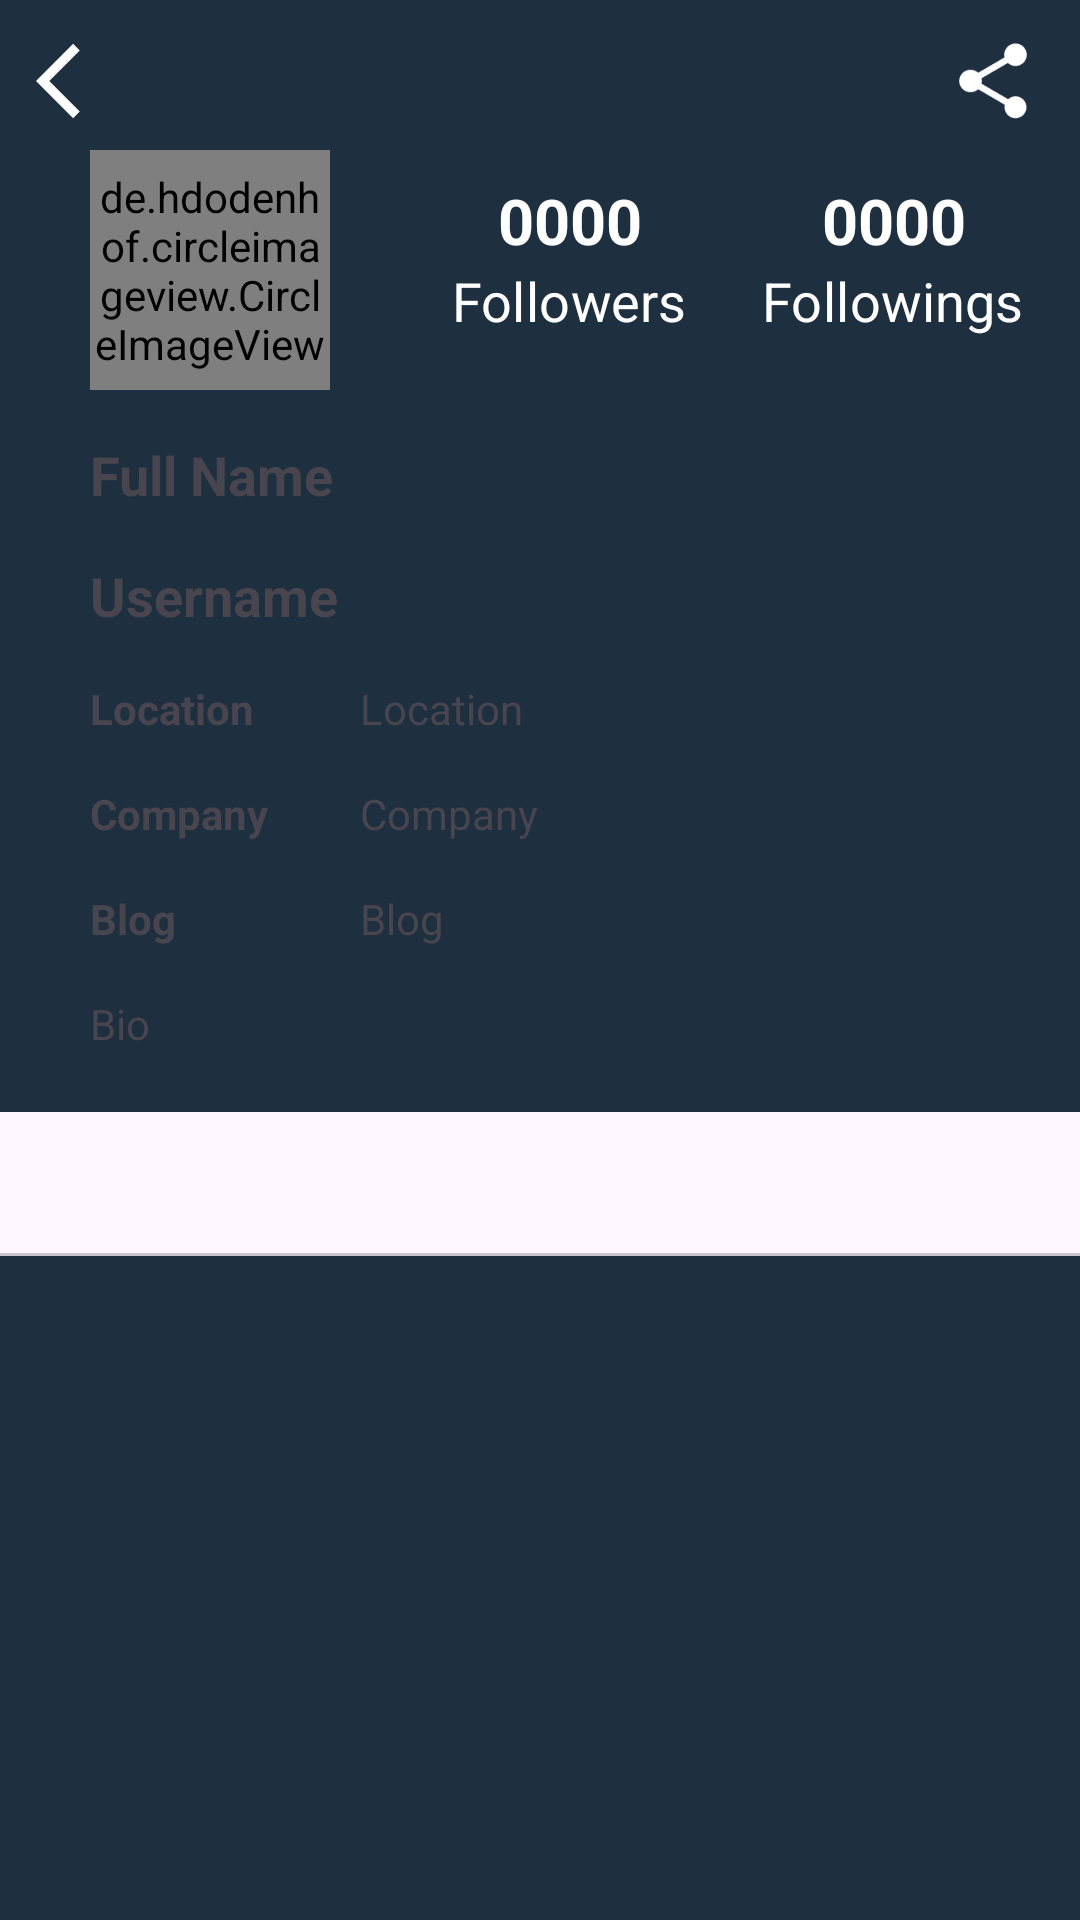

Icons on this 1080 × 1920 Android screen, each with its box as (left=x1, top=y1, right=x2, bottom=y2):
back: (left=36, top=44, right=80, bottom=118)
share: (left=959, top=43, right=1027, bottom=119)
